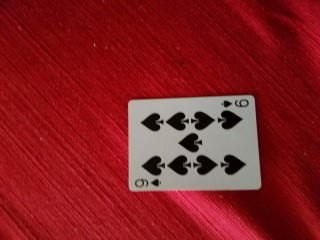NineOfSpades: (129, 95, 262, 192)
